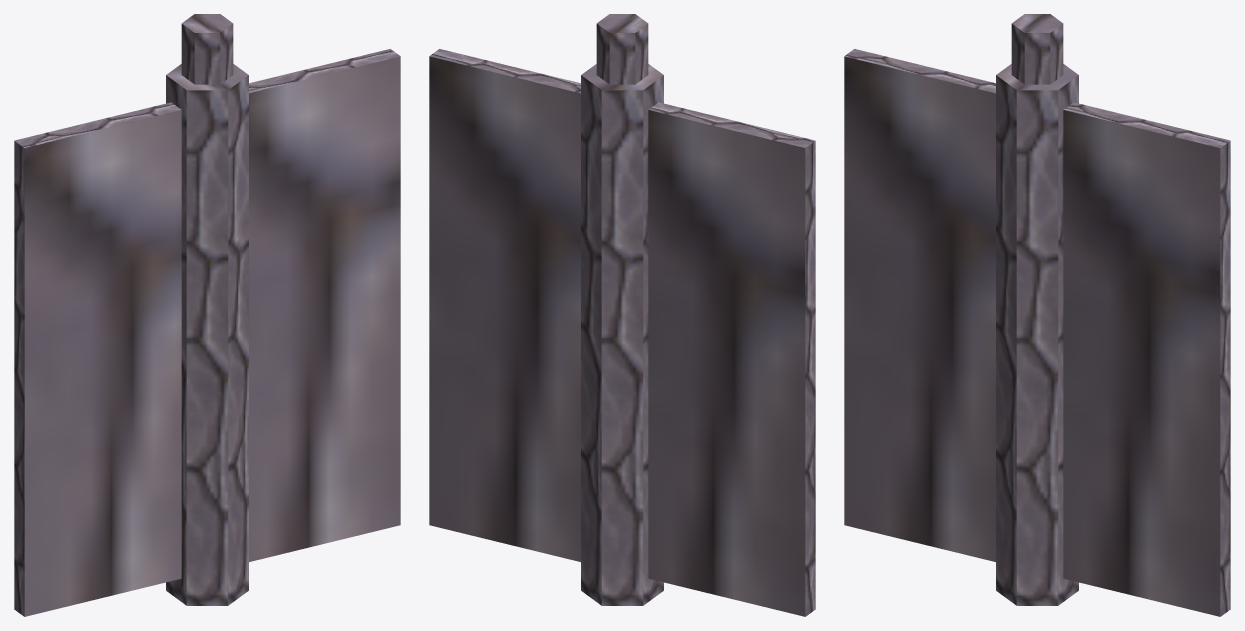
The model's file is Door_Hinge.fbx.
3 views of the same model, side by side, from view 1: azimuth 30°, elevation 25°; view 2: azimuth 150°, elevation 25°; view 3: azimuth 330°, elevation 25° (orthographic).
Parts seen in each view (by area): view 1: Door_Hinge; view 2: Door_Hinge; view 3: Door_Hinge.
Part boxes in pixels (x1,y1,x2,y2): Door_Hinge: (14,14,400,616); Door_Hinge: (429,14,815,616); Door_Hinge: (844,14,1230,616).
Size of the model in its own units: 0.084 by 0.121 by 0.016.
